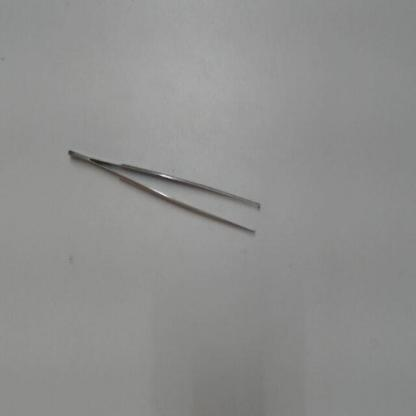Gillies Toothed Dissector: (69, 140, 272, 250)
